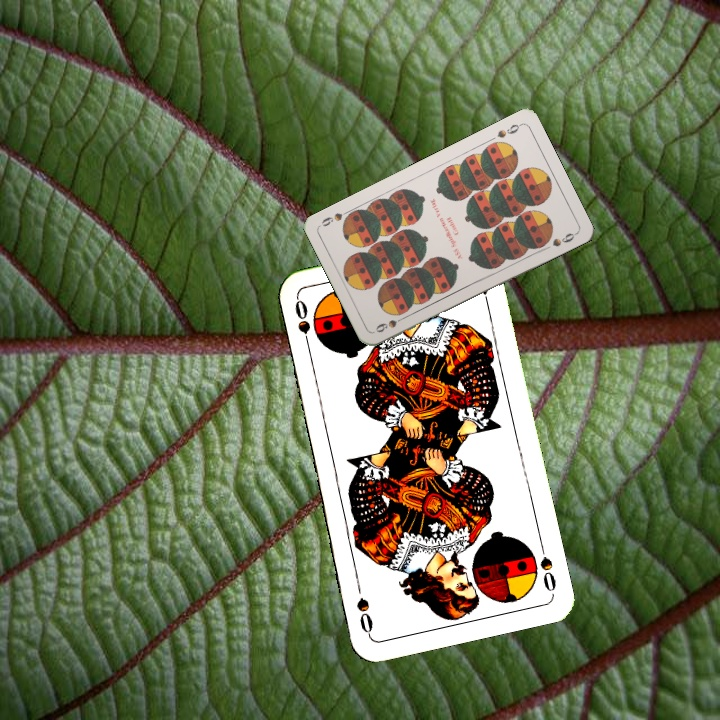S9: (371, 312, 410, 335), (493, 119, 524, 141)
SO: (290, 295, 314, 354), (535, 538, 559, 596)
